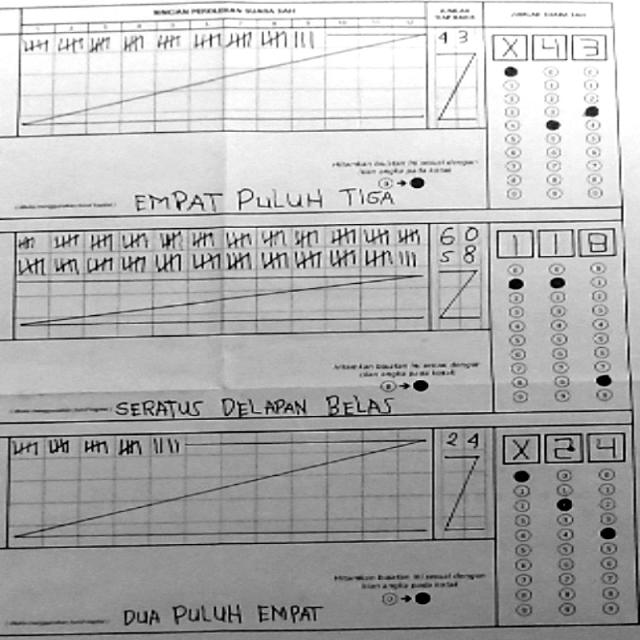Suara: (493, 224, 618, 259), (500, 428, 626, 462), (486, 29, 610, 63)
